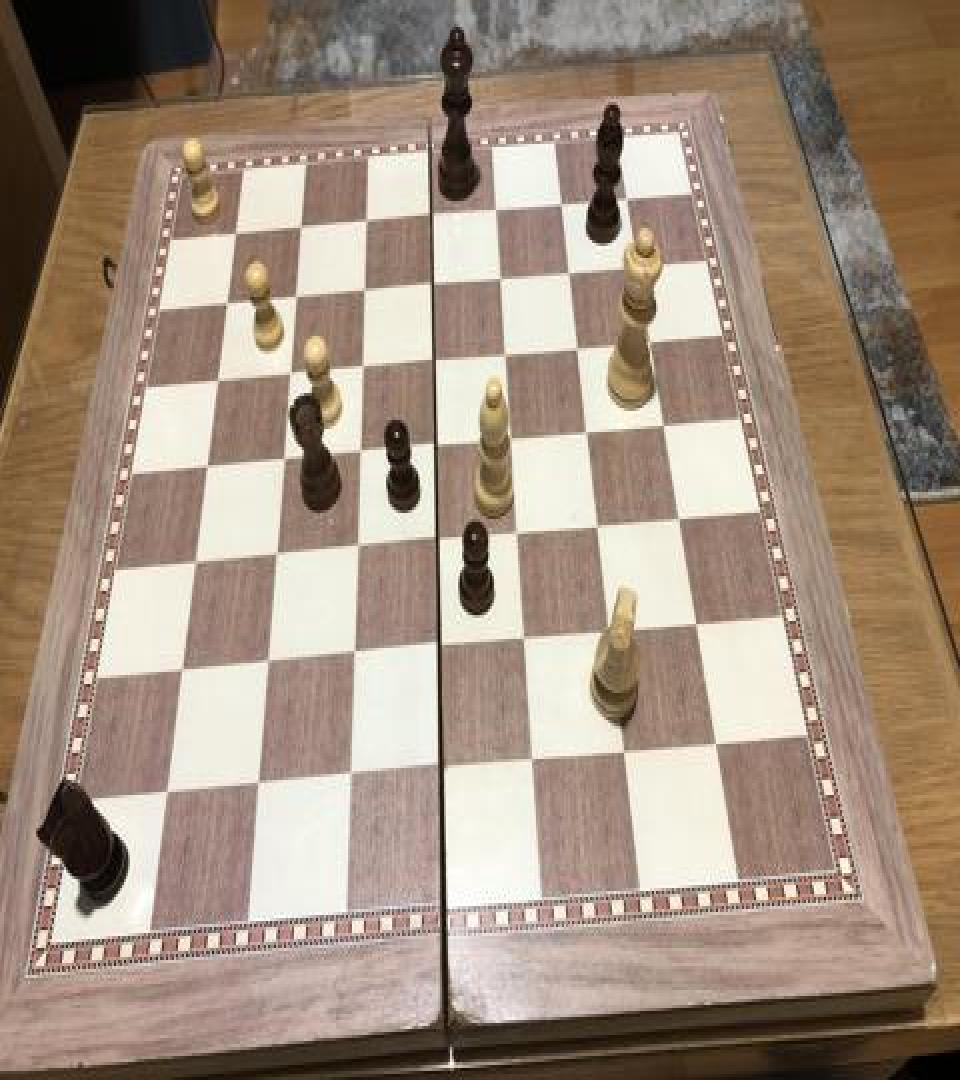xcorner: (503, 514, 527, 551), (338, 637, 362, 674), (167, 652, 191, 689), (701, 727, 725, 764), (613, 177, 637, 213), (548, 183, 572, 219), (483, 189, 507, 225), (418, 195, 442, 231), (353, 201, 377, 237), (288, 207, 312, 243), (223, 213, 247, 249), (624, 244, 648, 280), (555, 252, 579, 288), (487, 258, 511, 294), (419, 264, 443, 300), (350, 270, 374, 306), (282, 276, 306, 312), (214, 282, 238, 318), (636, 321, 660, 357), (564, 327, 588, 363), (492, 334, 516, 370), (420, 340, 444, 376), (348, 346, 372, 382), (276, 354, 300, 390), (204, 360, 228, 396), (649, 405, 673, 441), (497, 418, 521, 454), (421, 426, 445, 462), (345, 432, 369, 468), (269, 440, 293, 476), (193, 447, 217, 483), (664, 500, 688, 536), (584, 507, 608, 543), (422, 522, 446, 558), (342, 530, 366, 566), (261, 536, 285, 572), (180, 543, 204, 579), (681, 606, 705, 642), (596, 614, 620, 650), (510, 621, 534, 657), (424, 630, 448, 666), (252, 645, 276, 681), (609, 735, 633, 771), (517, 744, 541, 780), (426, 752, 450, 788), (334, 760, 358, 796), (242, 768, 266, 804), (151, 777, 175, 813), (573, 413, 597, 448)
